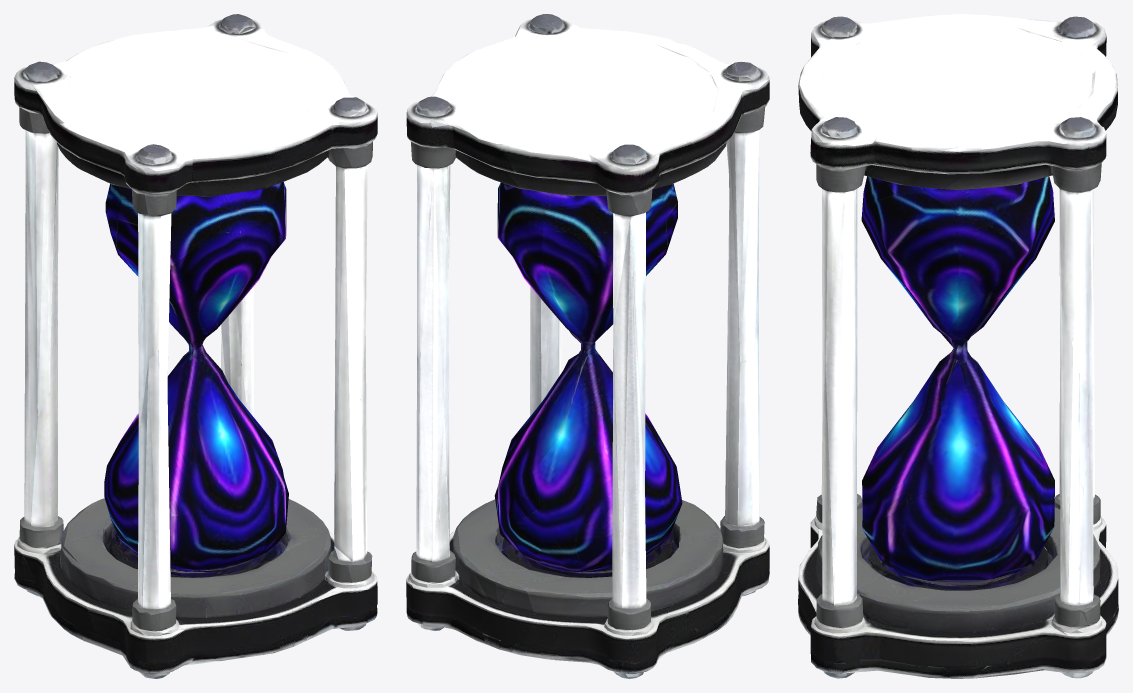
The model's file is skill-stasis.glb.
3 renders of one model, left to right at view 1: azimuth 30°, elevation 25°; view 2: azimuth 150°, elevation 25°; view 3: azimuth 270°, elevation 25°, orthographic. The views are drawn at different scales.
Bounding box in the file's own units: 0.9985 × 1.9 × 0.9987.
1 material, 1 textured.
